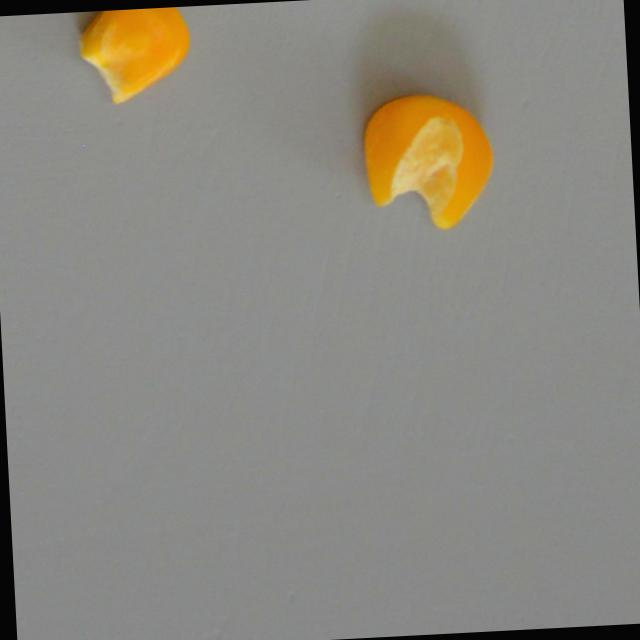dañado: (355, 86, 498, 237)
no_canjicado: (74, 6, 195, 107)
